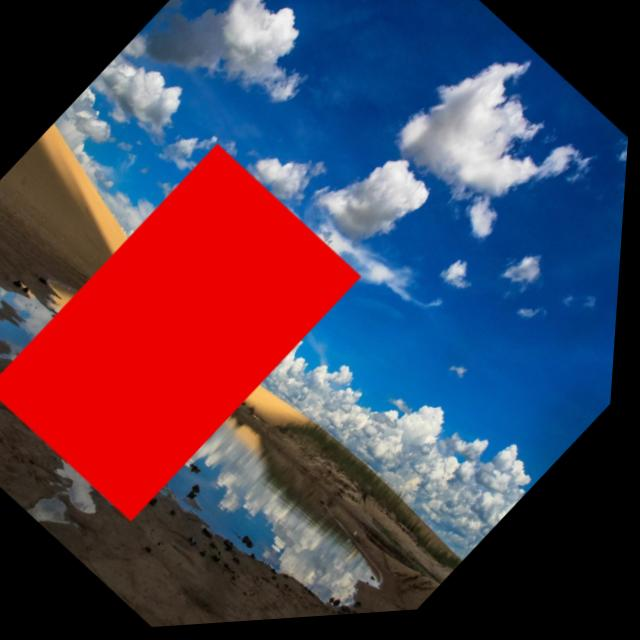RedSquare: (0, 128, 385, 546)
